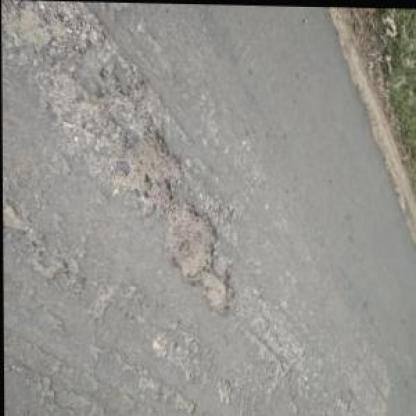pothole: (112, 119, 186, 214), (162, 197, 218, 284), (201, 269, 233, 316)
